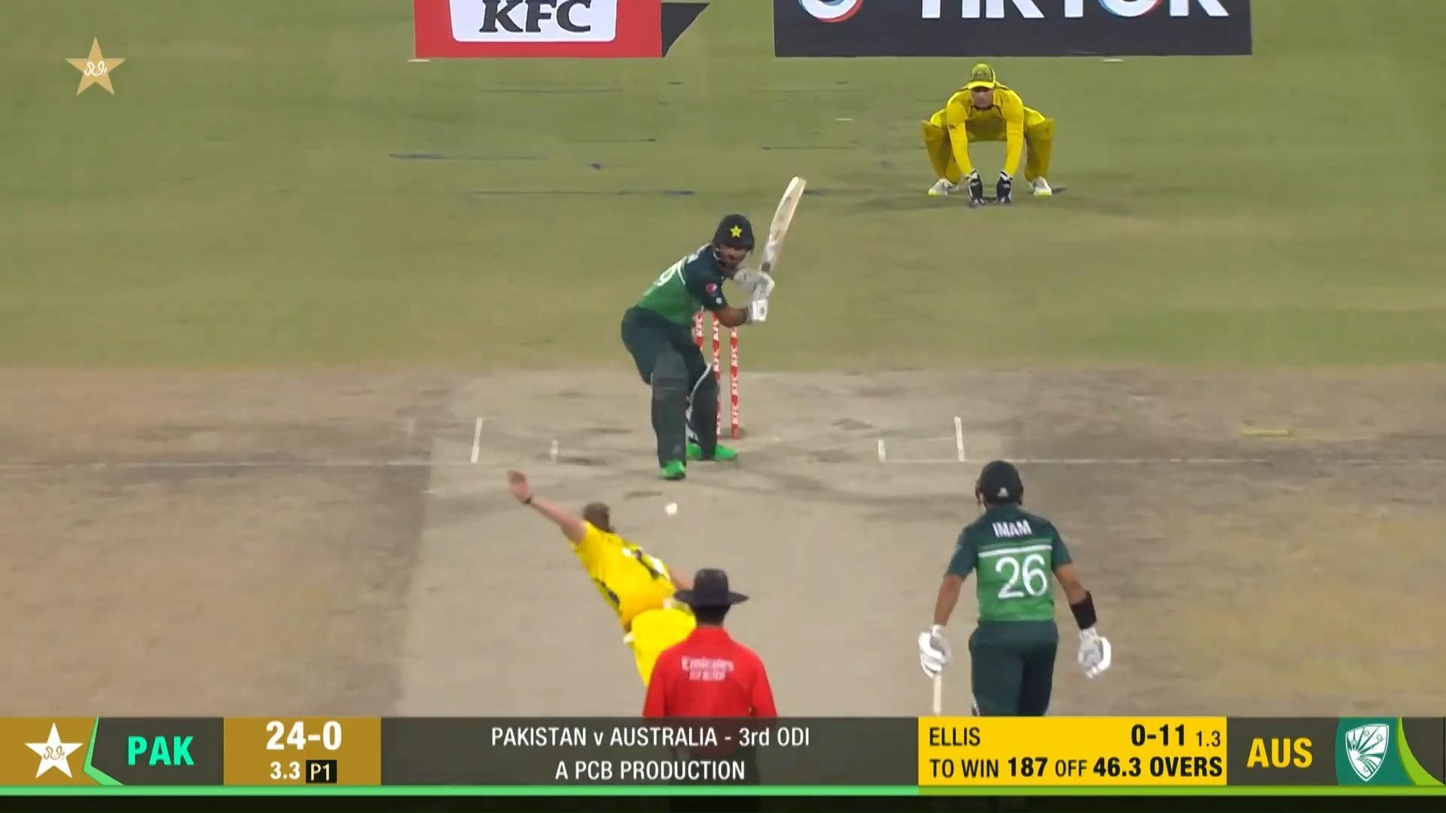BM 1: (621, 174, 808, 481)
BO: (502, 468, 722, 764)
